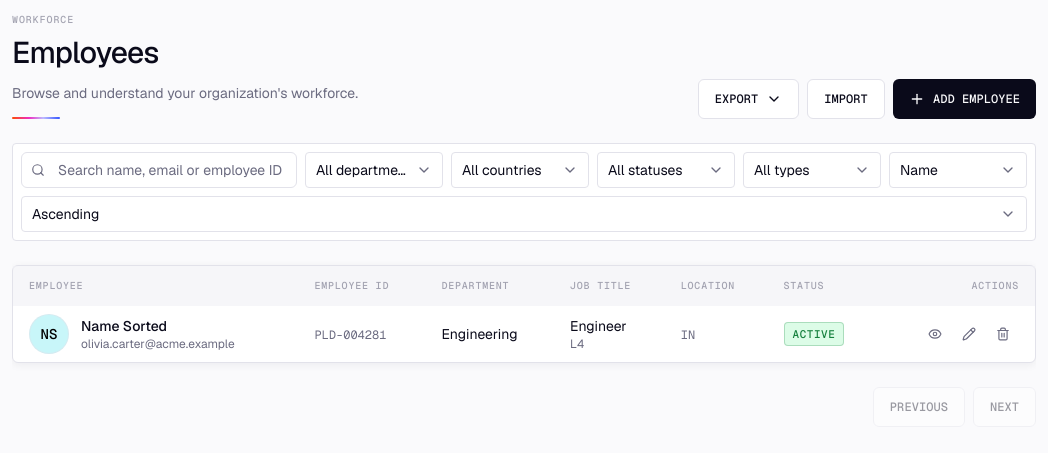
employee directory › does not reuse rows while a sort request is unresolved
expect the text "Name Sorted" is shown: met, box [81,317,167,335]
Click the dropdown named "Sort employees". click: point(958, 170)
box: [889,152,1027,188]
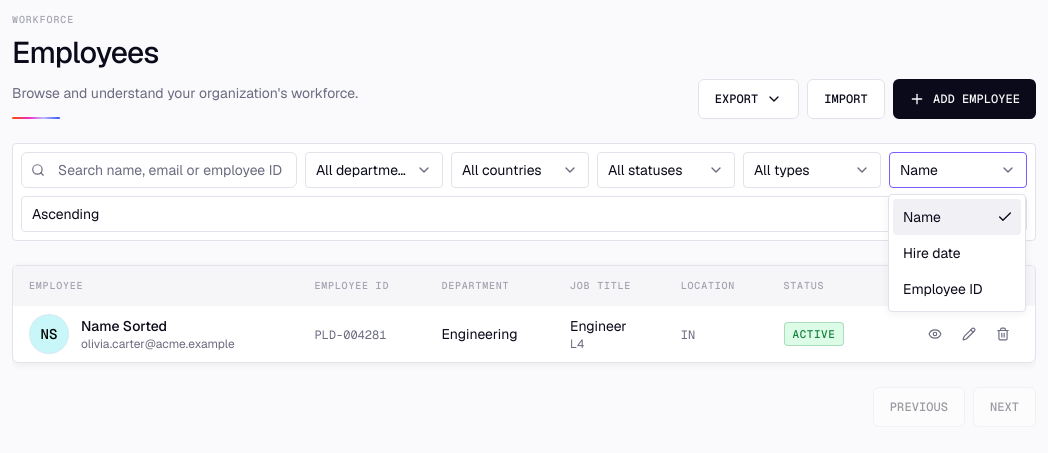
Click the option "Hire date". click: point(932, 253)
box: [903,244,961,262]
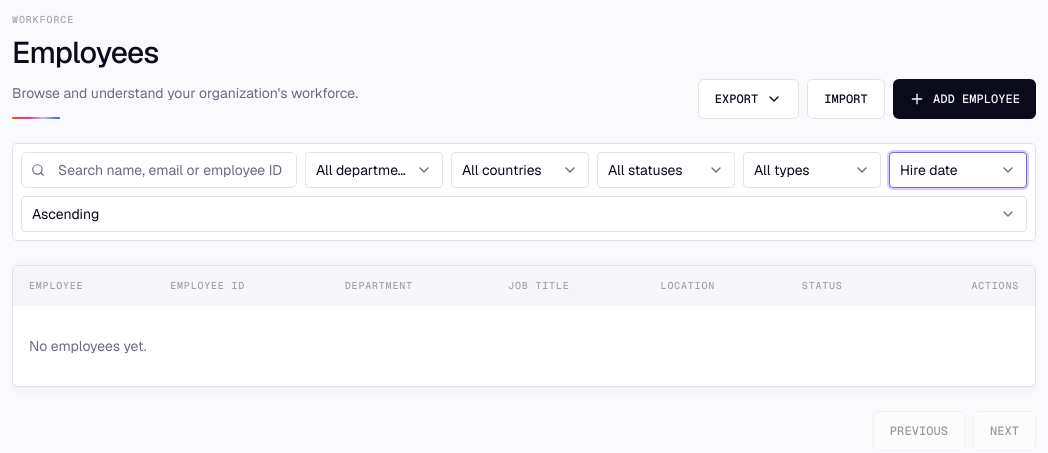
expect the link "Name Sorted" is gone: met
